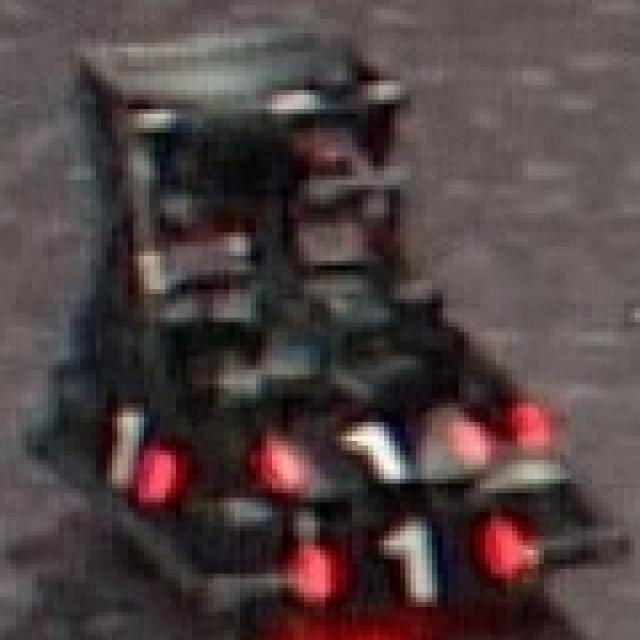R1: (277, 493, 528, 626), (256, 394, 491, 493)
